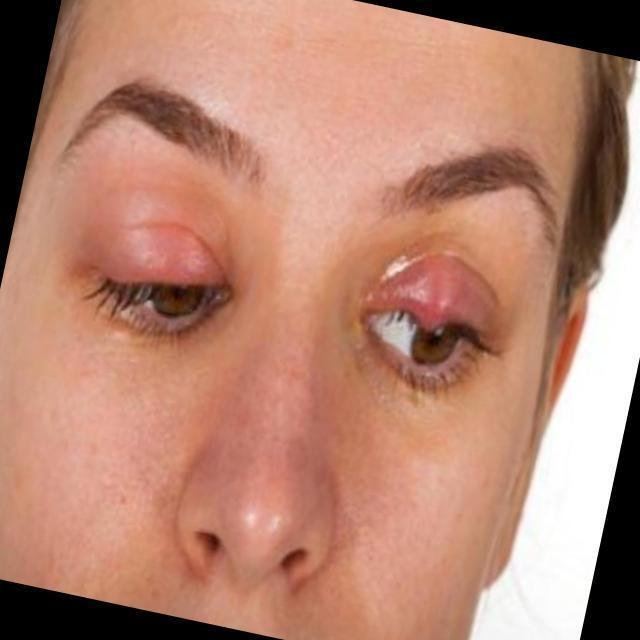Stye: (364, 231, 492, 365)
